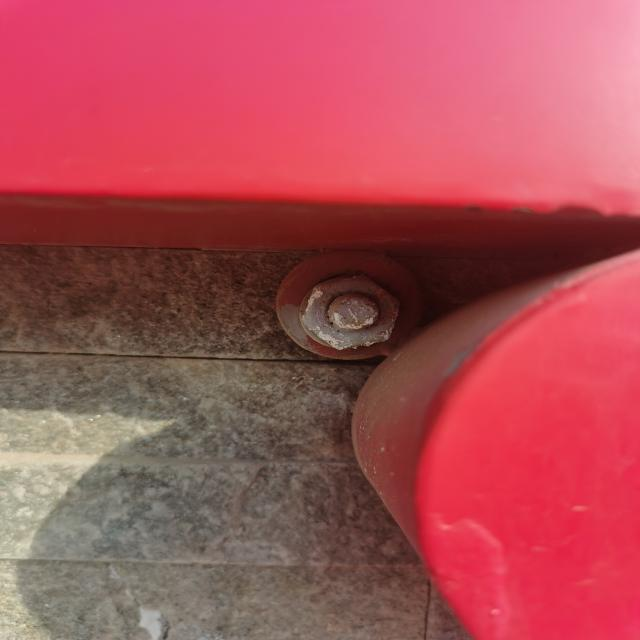bolt nut: (296, 270, 408, 352)
